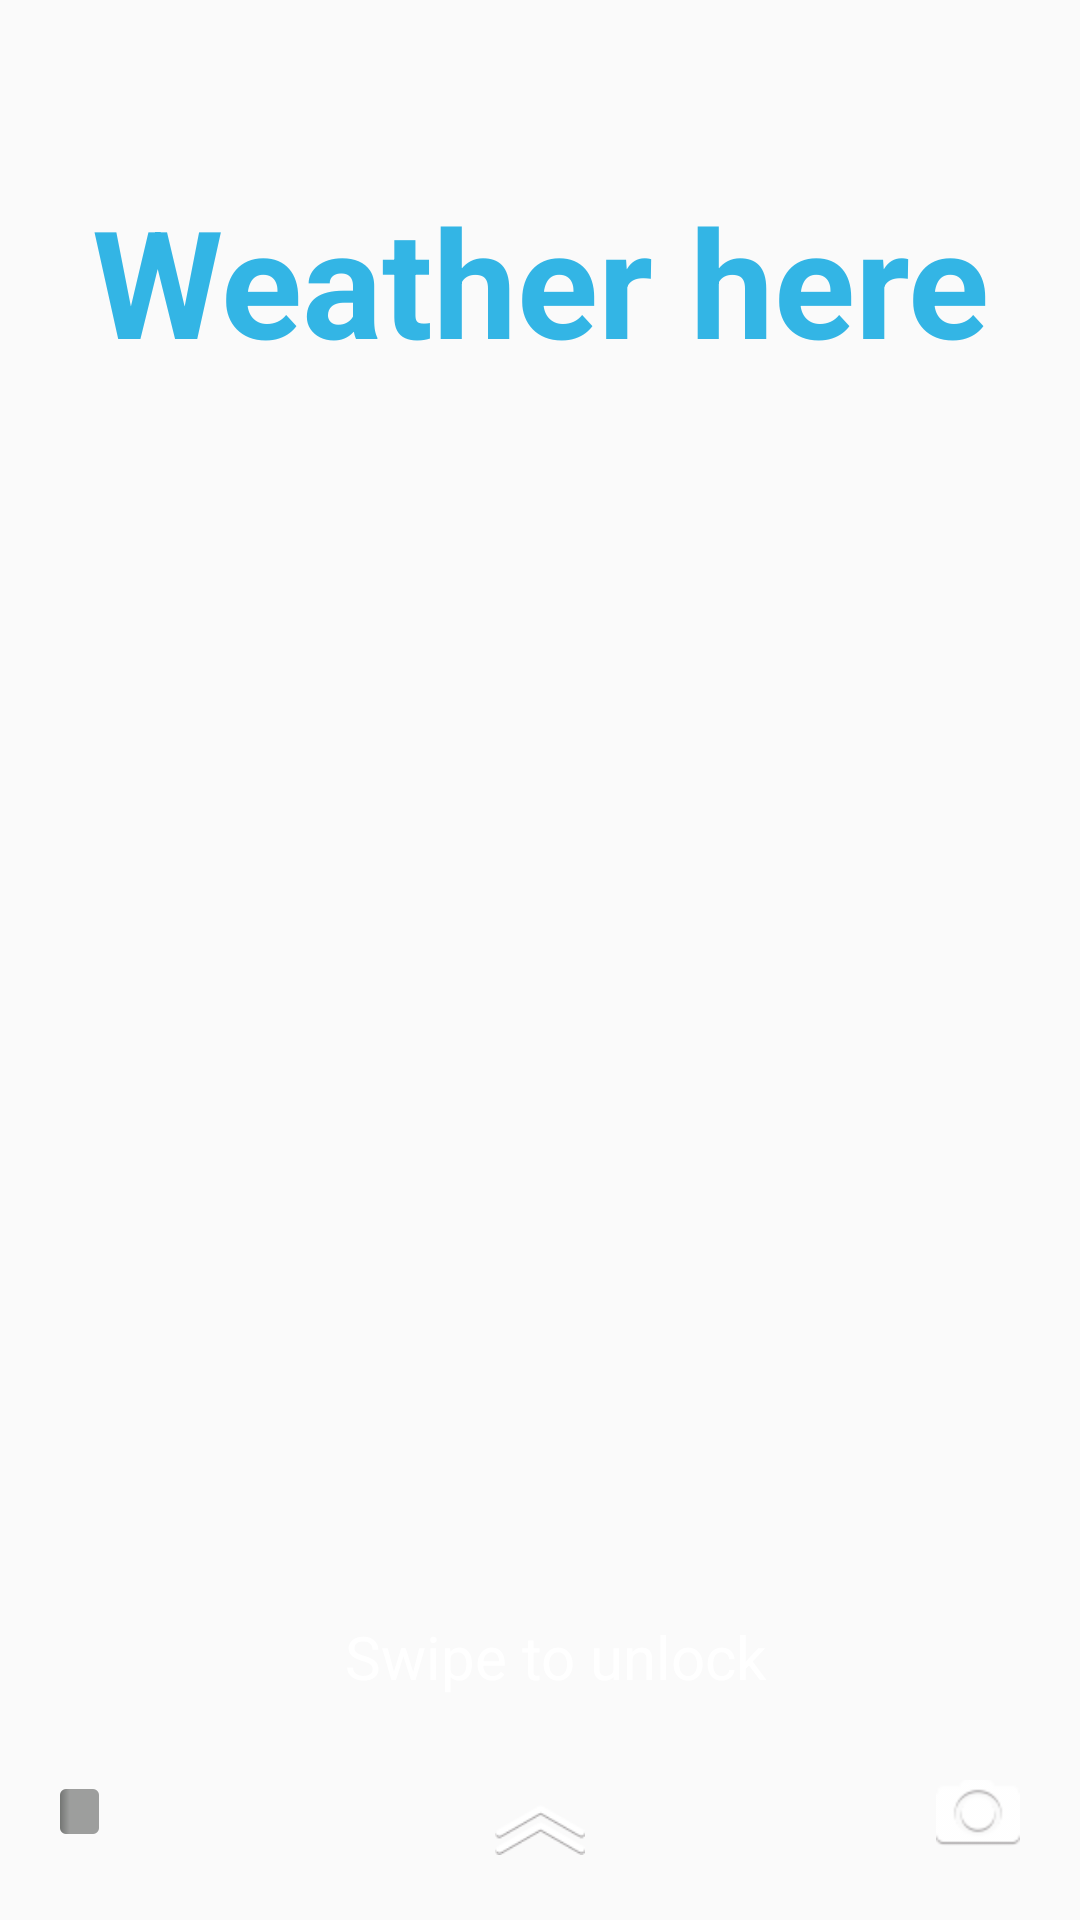

Locate icon controls on the screen. Image size 1080×1920, boxes as (x1, y1, x2, y2).
lockscreen camera: (936, 1790, 1020, 1845)
lockscreen unlock: (495, 1813, 585, 1855)
